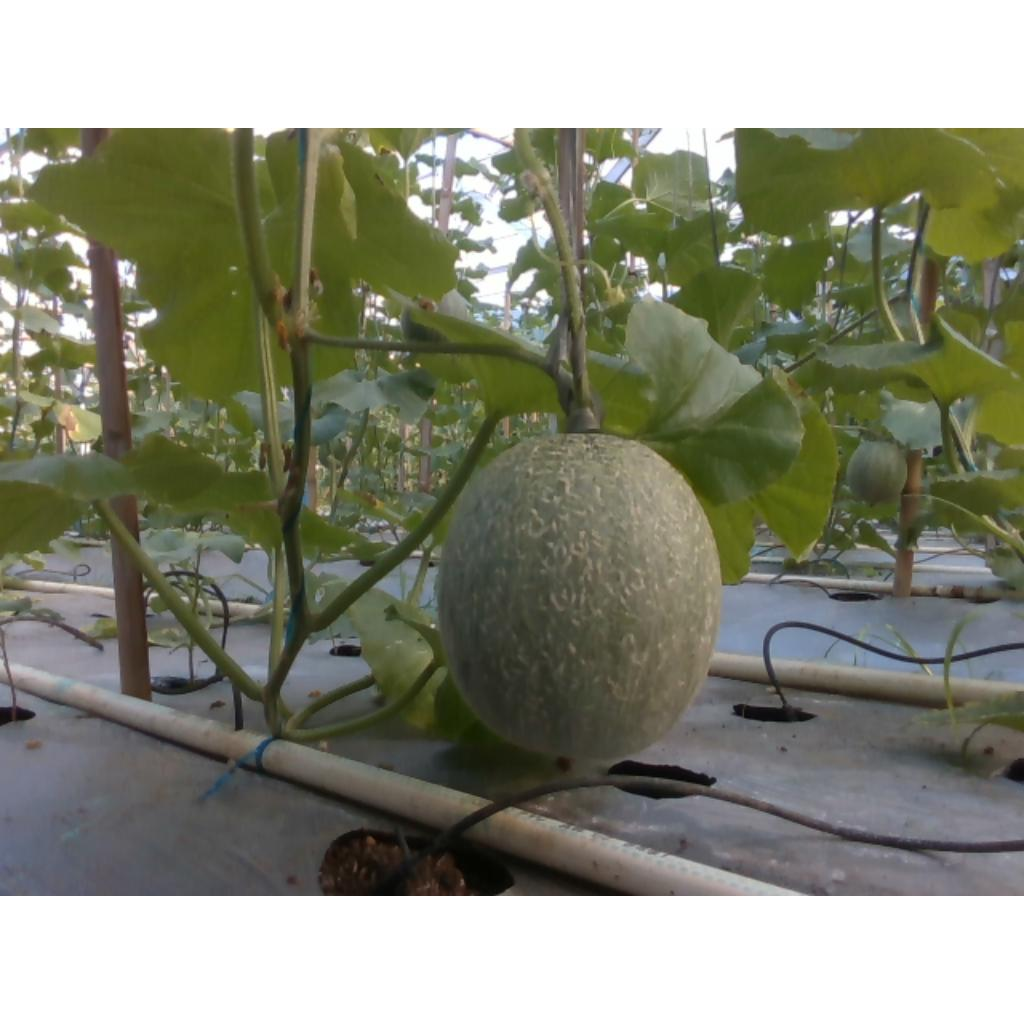melon: (440, 434, 723, 759)
